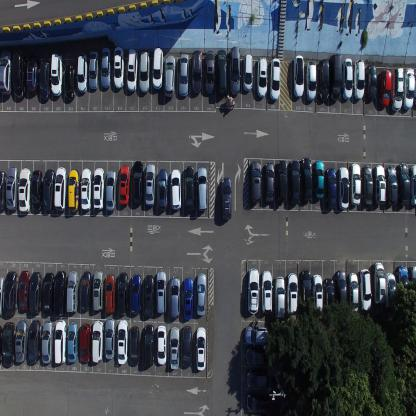car: (53, 269, 67, 317), (2, 271, 16, 318), (12, 50, 25, 100), (17, 167, 31, 213), (5, 166, 19, 211), (25, 52, 39, 96), (14, 320, 28, 364), (28, 272, 42, 316), (330, 52, 342, 102), (335, 270, 348, 316), (183, 164, 196, 210), (2, 322, 15, 368), (372, 260, 385, 306), (244, 370, 271, 392), (397, 162, 410, 207), (42, 272, 55, 316), (244, 347, 271, 368), (300, 156, 312, 203), (396, 265, 409, 308), (276, 158, 288, 204), (142, 323, 154, 369), (247, 267, 259, 313), (261, 268, 273, 314), (54, 319, 66, 365), (244, 325, 270, 346), (359, 268, 372, 310), (347, 272, 359, 317), (196, 166, 208, 211), (168, 326, 180, 371), (116, 272, 128, 317), (274, 274, 286, 319), (41, 320, 53, 365), (28, 319, 40, 364), (0, 51, 12, 96), (164, 53, 176, 98), (51, 52, 63, 97), (54, 166, 66, 211), (216, 49, 227, 97), (204, 50, 216, 94), (191, 49, 203, 93), (129, 273, 141, 317), (17, 270, 29, 314), (300, 268, 312, 312), (392, 67, 404, 111), (220, 176, 232, 220), (126, 48, 138, 92), (43, 168, 55, 212), (80, 168, 92, 212), (66, 269, 78, 313), (385, 165, 398, 205), (379, 68, 392, 108), (156, 168, 168, 211), (182, 277, 194, 320), (142, 275, 154, 318), (91, 321, 103, 364), (103, 273, 115, 316), (286, 271, 298, 314), (289, 160, 300, 206), (116, 320, 127, 366), (132, 160, 143, 206), (170, 168, 182, 210), (128, 326, 140, 368), (312, 272, 324, 314), (385, 271, 397, 313), (325, 167, 337, 209), (374, 164, 386, 206), (76, 52, 88, 94), (169, 275, 180, 320), (144, 163, 155, 208), (177, 52, 188, 97), (139, 49, 150, 94), (68, 168, 79, 213), (155, 325, 167, 366), (361, 165, 373, 206), (80, 270, 92, 311), (230, 46, 240, 95), (246, 393, 273, 411), (269, 57, 280, 101), (257, 55, 268, 99), (152, 46, 163, 90), (195, 272, 206, 316), (181, 326, 192, 370), (105, 169, 116, 213), (293, 53, 304, 97), (338, 166, 349, 210), (318, 57, 329, 101), (93, 167, 104, 211), (113, 46, 124, 90), (100, 45, 111, 89), (353, 59, 365, 99), (366, 62, 378, 102), (118, 164, 129, 207), (350, 163, 361, 206), (32, 169, 43, 212), (305, 61, 317, 100), (66, 322, 77, 364), (242, 54, 254, 92), (64, 63, 76, 101), (88, 49, 99, 90), (324, 276, 335, 317), (39, 61, 50, 102), (196, 327, 206, 372), (156, 271, 166, 316), (251, 160, 261, 204), (264, 160, 274, 204), (104, 318, 114, 362), (79, 324, 90, 364), (343, 57, 353, 101), (93, 268, 103, 312), (405, 67, 415, 110), (314, 159, 324, 200), (408, 265, 416, 309), (0, 170, 6, 212), (410, 164, 416, 206), (0, 275, 5, 318), (0, 325, 3, 365)
